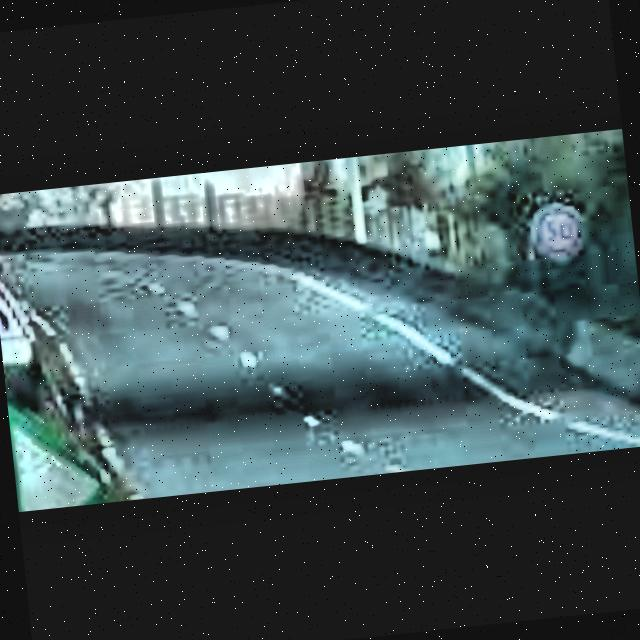speed_50: (530, 202, 588, 262)
